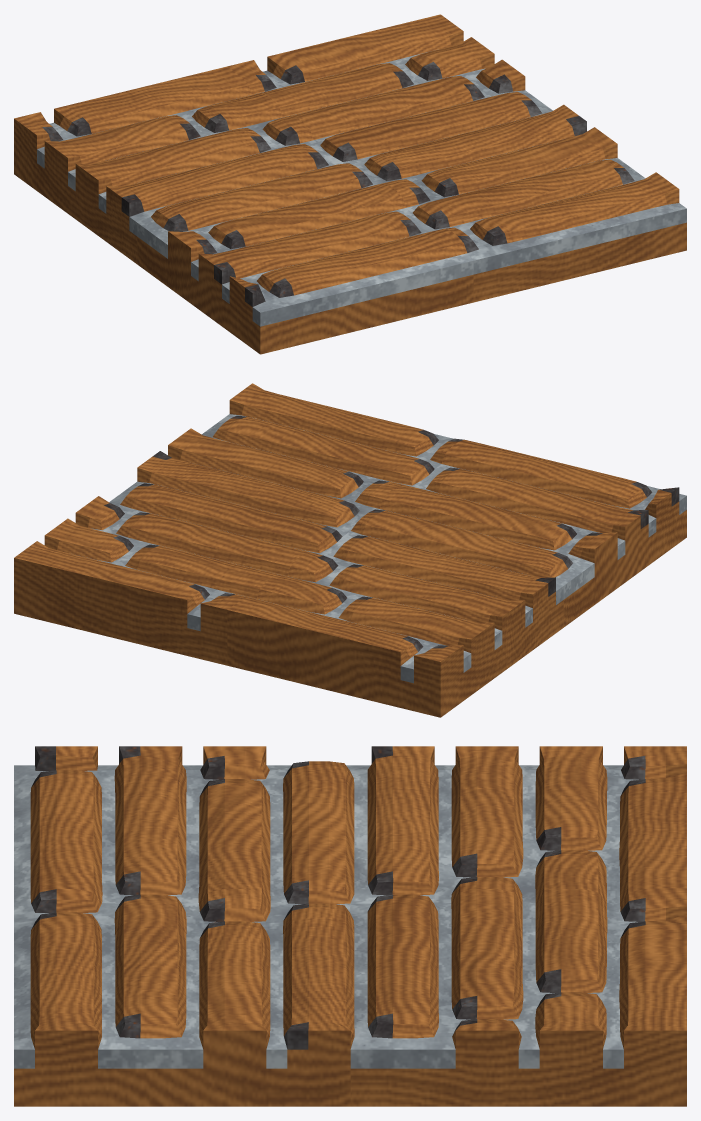
Rendered from floor_in_planks_dark.glb.
The picture shows the model from 3 angles, top to bottom: view 1: azimuth 30°, elevation 25°; view 2: azimuth 150°, elevation 25°; view 3: azimuth 270°, elevation 25°; orthographic projection. The views are drawn at different scales.
Parts seen in each view (by area): view 1: town_floor_in_planks_dark; view 2: town_floor_in_planks_dark; view 3: town_floor_in_planks_dark.
Part boxes in pixels (x1,y1,x2,y2): town_floor_in_planks_dark: (14,14,686,354); town_floor_in_planks_dark: (14,383,686,717); town_floor_in_planks_dark: (14,746,686,1106).
Size of the model in its own units: 1 by 0.125 by 1.
Materials: 1 (1 with a texture image).
